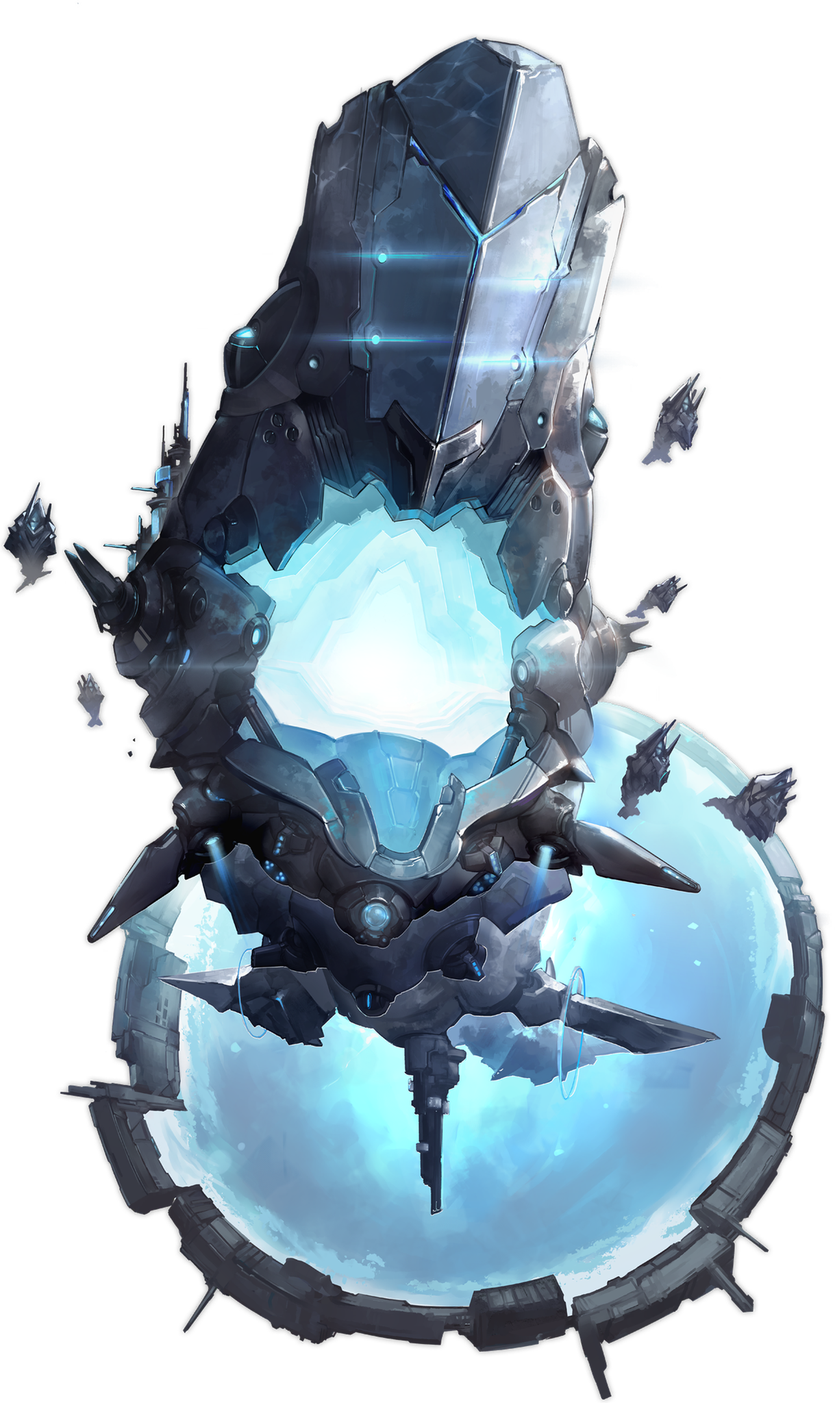person: (1, 2, 828, 1402)
